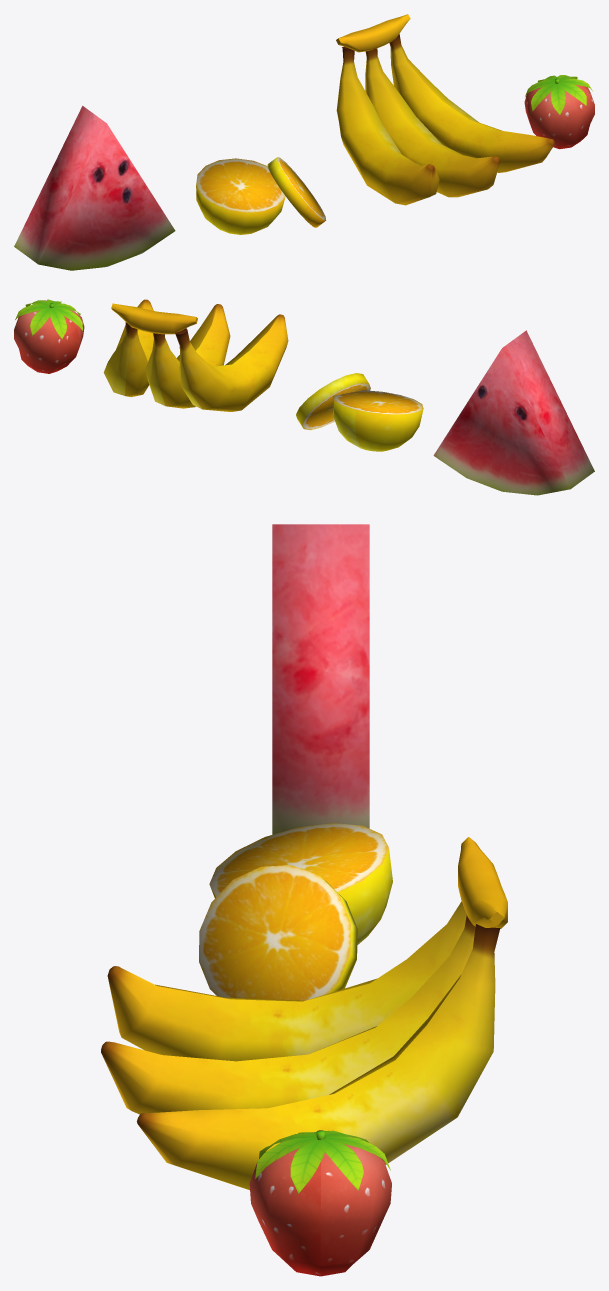
Rendered from Fruits.fbx.
3 renders of one model, top to bottom at view 1: azimuth 30°, elevation 25°; view 2: azimuth 150°, elevation 25°; view 3: azimuth 270°, elevation 25°, orthographic. The views are drawn at different scales.
Parts seen in each view (by area): view 1: Cube.001, Watermelon, Cylinder, Cube, Cylinder.001; view 2: Watermelon, Cube.001, Cylinder, Cube, Cylinder.001; view 3: Cube.001, Watermelon, Cylinder.001, Cube, Cylinder.
Boxes of the visible parts, box(x1,y1,x2,y2) form: Cube.001: box(336, 14, 554, 205); Watermelon: box(14, 105, 175, 270); Cylinder: box(196, 158, 285, 234); Cube: box(524, 75, 594, 149); Cylinder.001: box(267, 157, 326, 227); Watermelon: box(433, 330, 594, 495); Cube.001: box(103, 299, 288, 411); Cylinder: box(333, 390, 423, 451); Cube: box(14, 299, 84, 373); Cylinder.001: box(296, 373, 370, 430); Cube.001: box(101, 837, 507, 1190); Watermelon: box(272, 524, 369, 834); Cylinder.001: box(199, 865, 357, 1000); Cube: box(249, 1130, 391, 1276); Cylinder: box(209, 823, 392, 944).
Bounding box in the file's own units: 378 × 95.61 × 118.
1 material, 1 textured.
